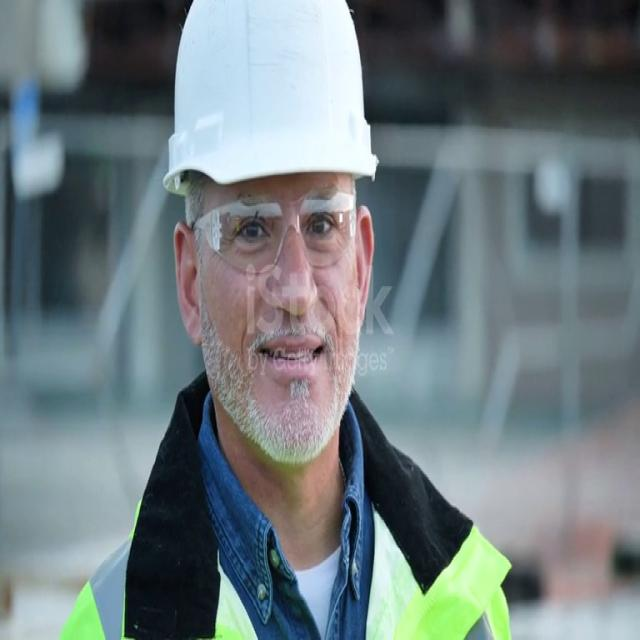capacete: (145, 7, 412, 210)
